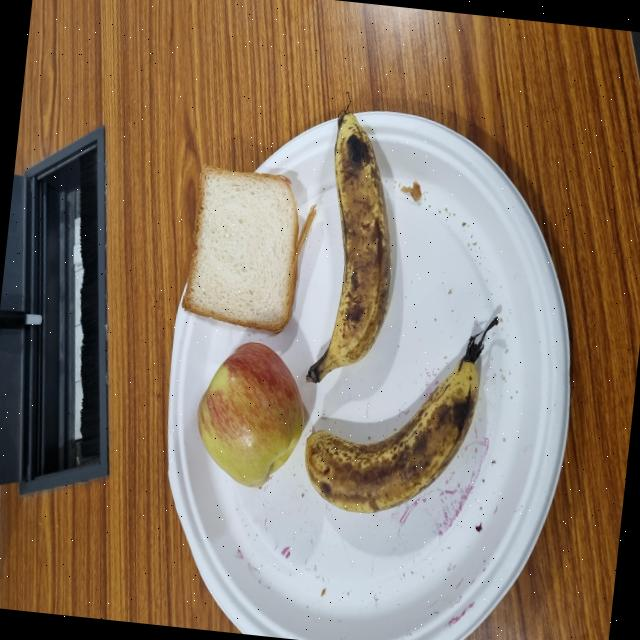apple: (105, 262, 218, 410)
banana: (79, 410, 208, 630), (181, 406, 383, 514)
